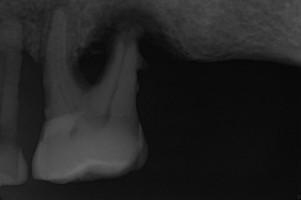Dental Caries: (72, 0, 190, 87)
